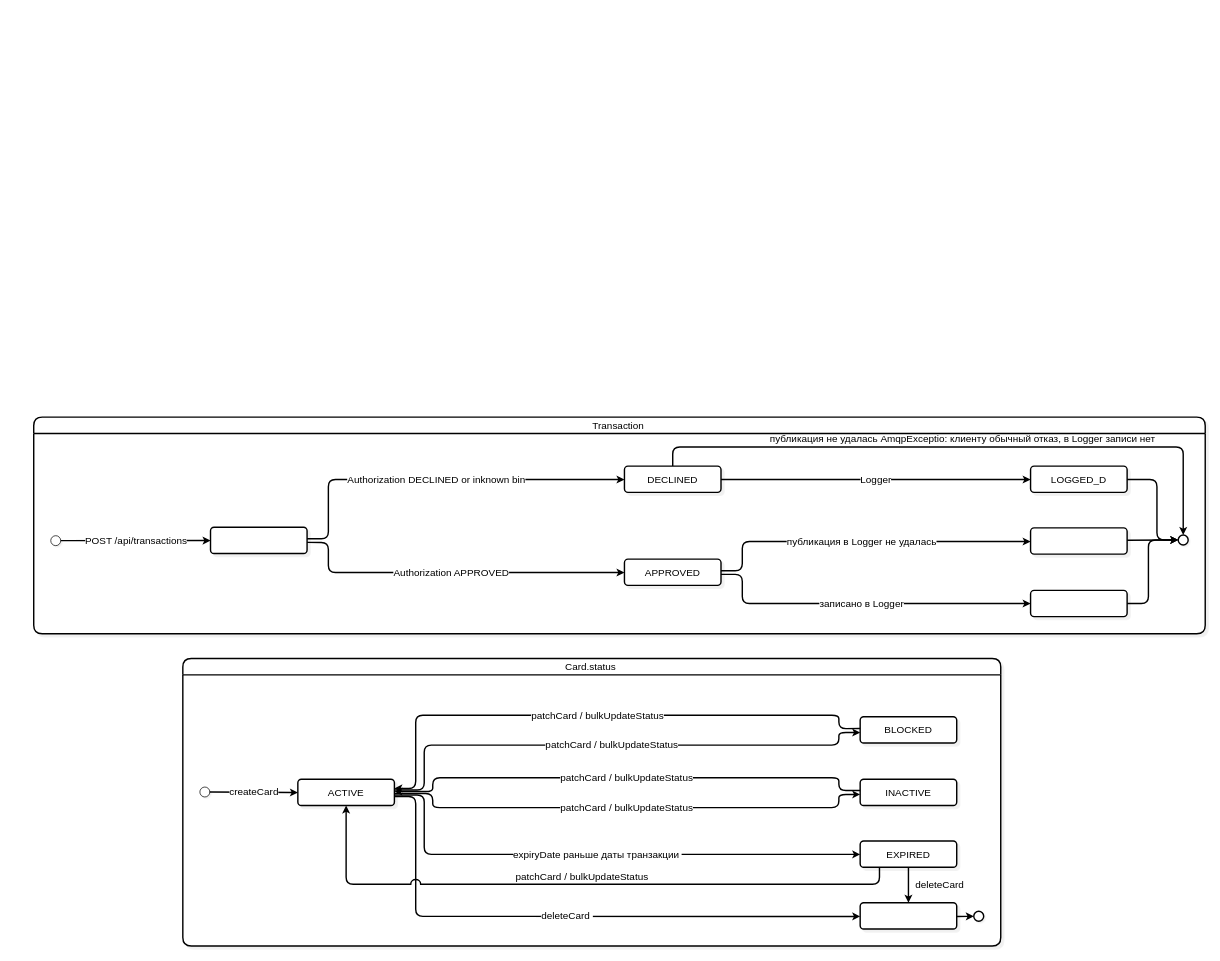
Image size: 1220x961. Some labels were removed from this diagram. The centre of each missing label's shape, as x and y in pixels:
DELETED: point 909,917
LOGGED_A: point 1080,604
RECEIVED: point 259,541
ROLLED_BACK: point 1080,542
